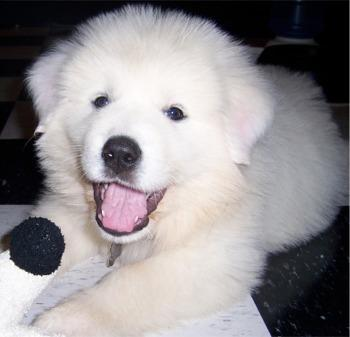Great_Pyrenees: (26, 6, 346, 335)
